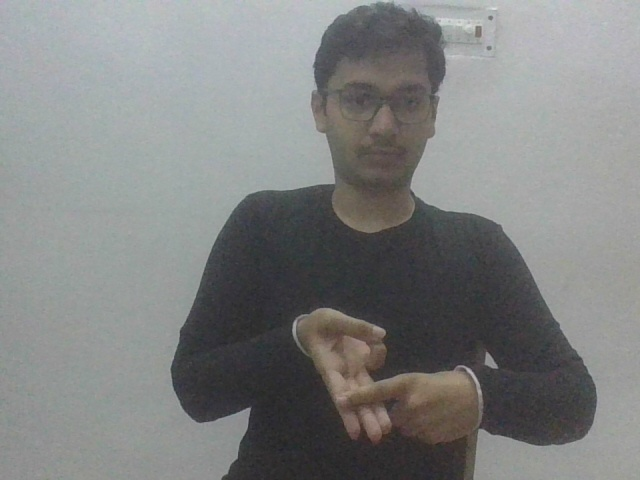E: (292, 304, 482, 449)
